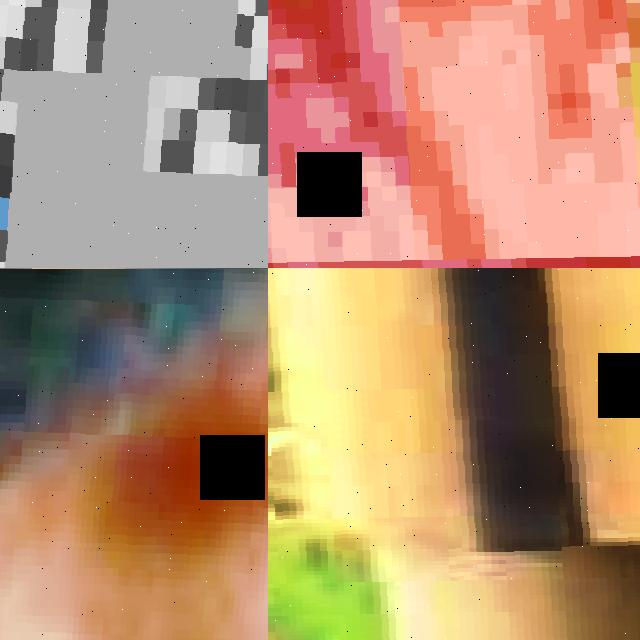arms: (268, 268, 640, 640), (268, 0, 640, 268), (0, 268, 268, 640), (0, 269, 268, 640), (0, 0, 268, 268), (0, 0, 268, 179)
